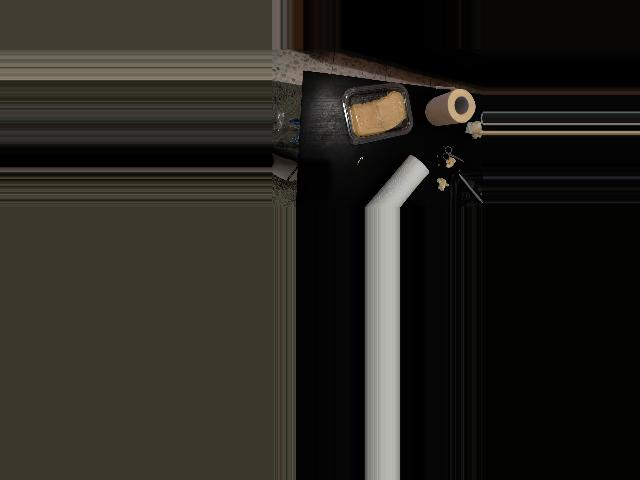cheese: (341, 87, 413, 142)
